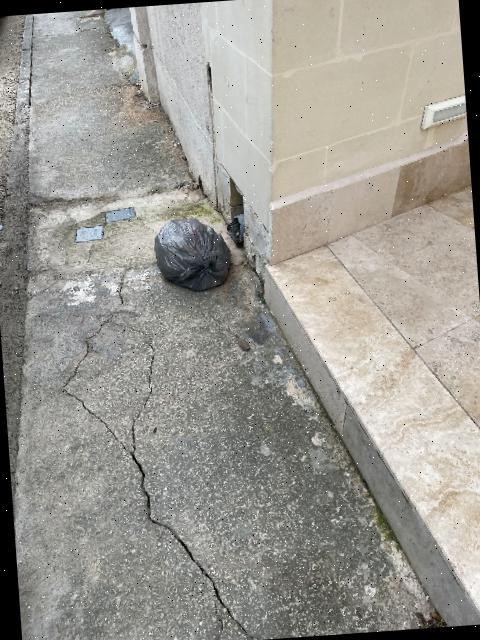Recyclable -Grey-: (154, 218, 230, 291)
